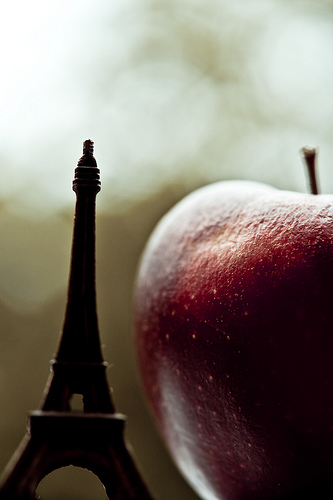apple: (131, 148, 331, 498)
